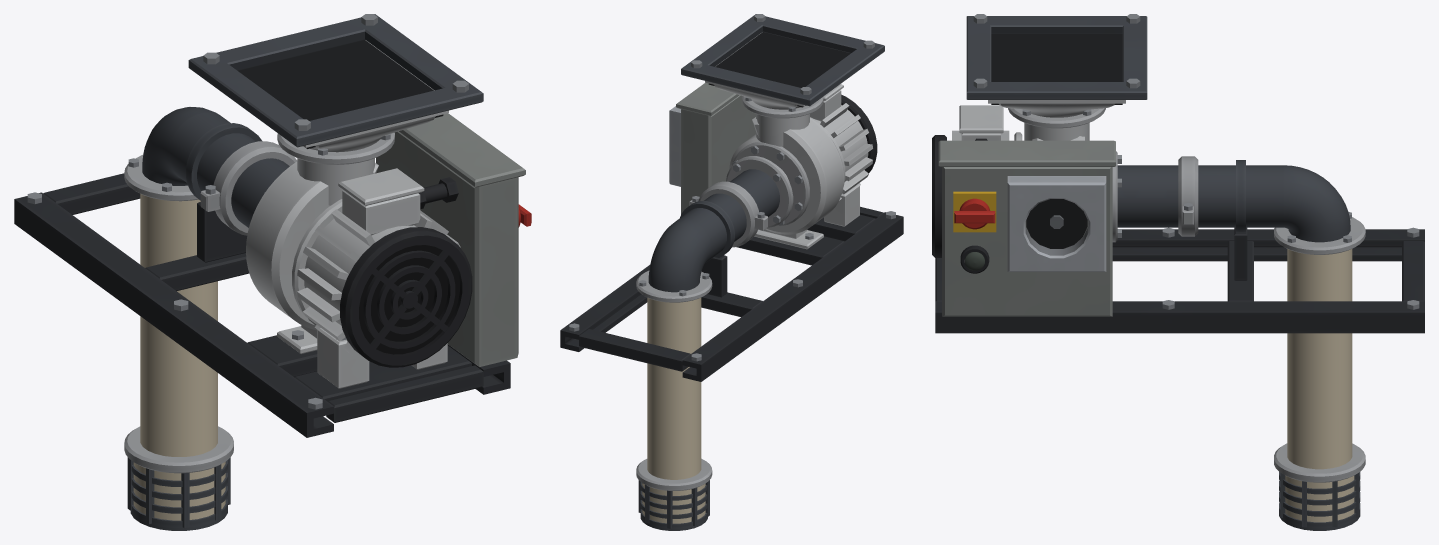
The model's file is item.obj.
3 renders of one model, left to right at view 1: azimuth 30°, elevation 25°; view 2: azimuth 150°, elevation 25°; view 3: azimuth 270°, elevation 25°, orthographic. The views are drawn at different scales.
Parts seen in each view (by area): view 1: body_starter_box, body_channels, body_fport_plate, body_suction_drop, body_cross, body_fport_throat, body_volute, body_grille_rings, body_suction_pipe, body_fan_cowl, body_terminal_box, body_strainer_bands (+19 smaller); view 2: body_channels, body_suction_drop, body_fport_plate, body_starter_box, body_cross, body_volute, body_fport_throat, body_elbow, body_suction_pipe, body_strainer_bands, body_cover, body_fins (+17 smaller); view 3: body_channels, body_starter_box, body_suction_drop, body_fport_plate, body_suction_pipe, body_pport_plate, body_fport_throat, body_elbow, body_cross, body_strainer_bands, body_pport_socket, body_strainer_flange (+11 smaller).
Boxes of the visible parts, x1,y1,x2,y2 form: body_starter_box: [376, 113, 525, 366]; body_channels: [14, 192, 510, 437]; body_fport_plate: [188, 14, 483, 147]; body_suction_drop: [140, 194, 217, 456]; body_cross: [43, 173, 483, 422]; body_fport_throat: [238, 40, 443, 148]; body_volute: [246, 161, 378, 330]; body_grille_rings: [355, 240, 466, 360]; body_suction_pipe: [168, 112, 289, 227]; body_fan_cowl: [340, 227, 472, 367]; body_terminal_box: [338, 168, 424, 235]; body_strainer_bands: [127, 457, 230, 528]; body_channels: [560, 212, 903, 381]; body_suction_drop: [647, 297, 701, 479]; body_fport_plate: [681, 14, 884, 106]; body_starter_box: [676, 82, 755, 214]; body_cross: [579, 206, 883, 371]; body_volute: [729, 117, 843, 234]; body_fport_throat: [708, 32, 850, 107]; body_elbow: [648, 219, 711, 292]; body_suction_pipe: [676, 169, 779, 262]; body_strainer_bands: [638, 480, 709, 528]; body_cover: [732, 141, 809, 226]; body_fins: [820, 103, 872, 200]; body_channels: [935, 229, 1424, 333]; body_starter_box: [938, 140, 1115, 316]; body_suction_drop: [1287, 249, 1352, 469]; body_fport_plate: [966, 16, 1147, 99]; body_suction_pipe: [1117, 165, 1283, 227]; body_pport_plate: [1007, 176, 1106, 271]; body_fport_throat: [991, 34, 1122, 104]; body_elbow: [1283, 165, 1350, 242]; body_cross: [935, 241, 1424, 301]; body_strainer_bands: [1279, 472, 1360, 527]; body_pport_socket: [1026, 199, 1087, 248]; body_strainer_flange: [1274, 443, 1365, 482].
Bounding box in the file's own units: 0.875 × 1.96 × 1.88.
